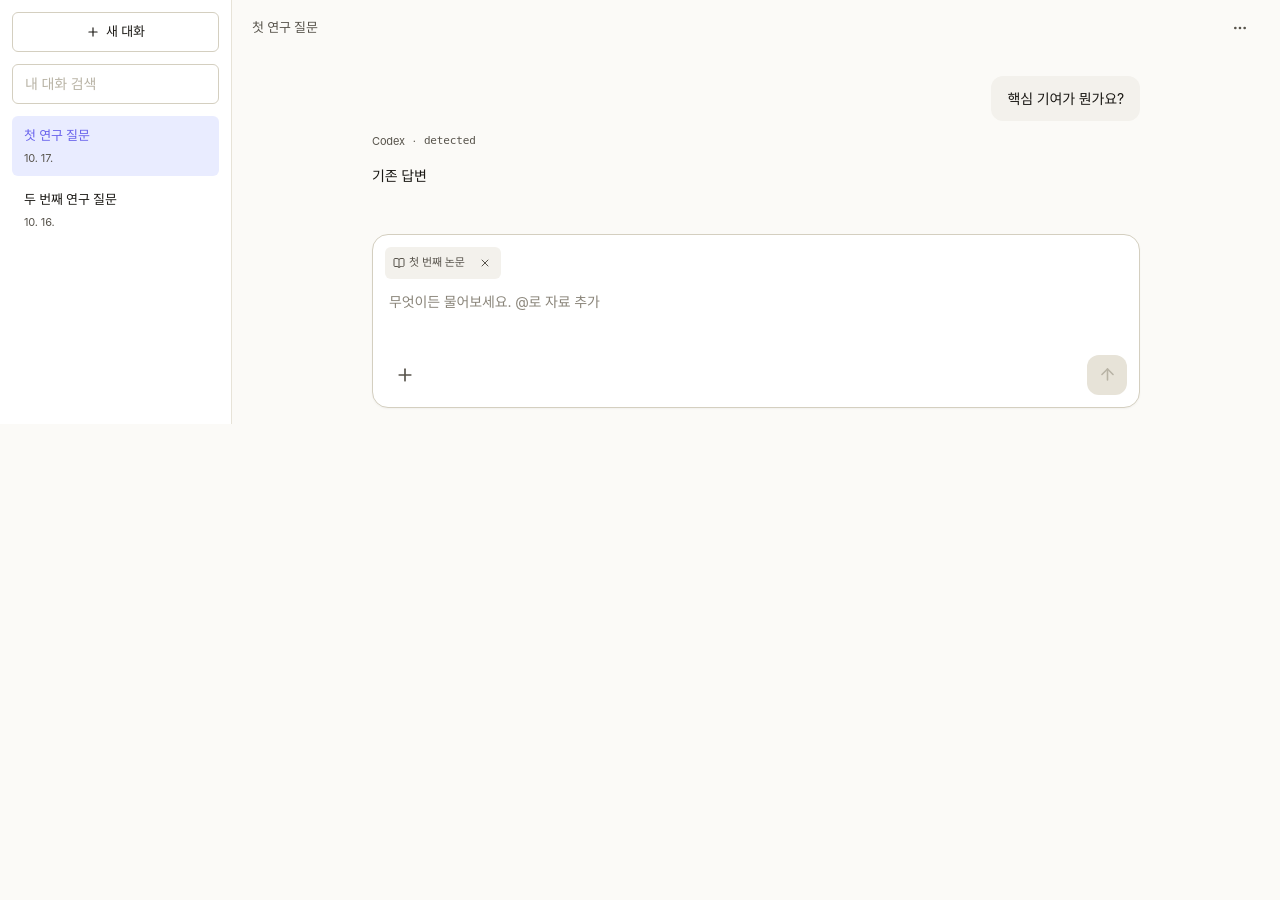
Test: 대화 삭제 › 지금 열린 대화를 지우면 새 대화 화면으로 돌아간다
Click the button named "현재 대화 더보기" at x=1240, y=28, box [1220, 8, 1260, 48]
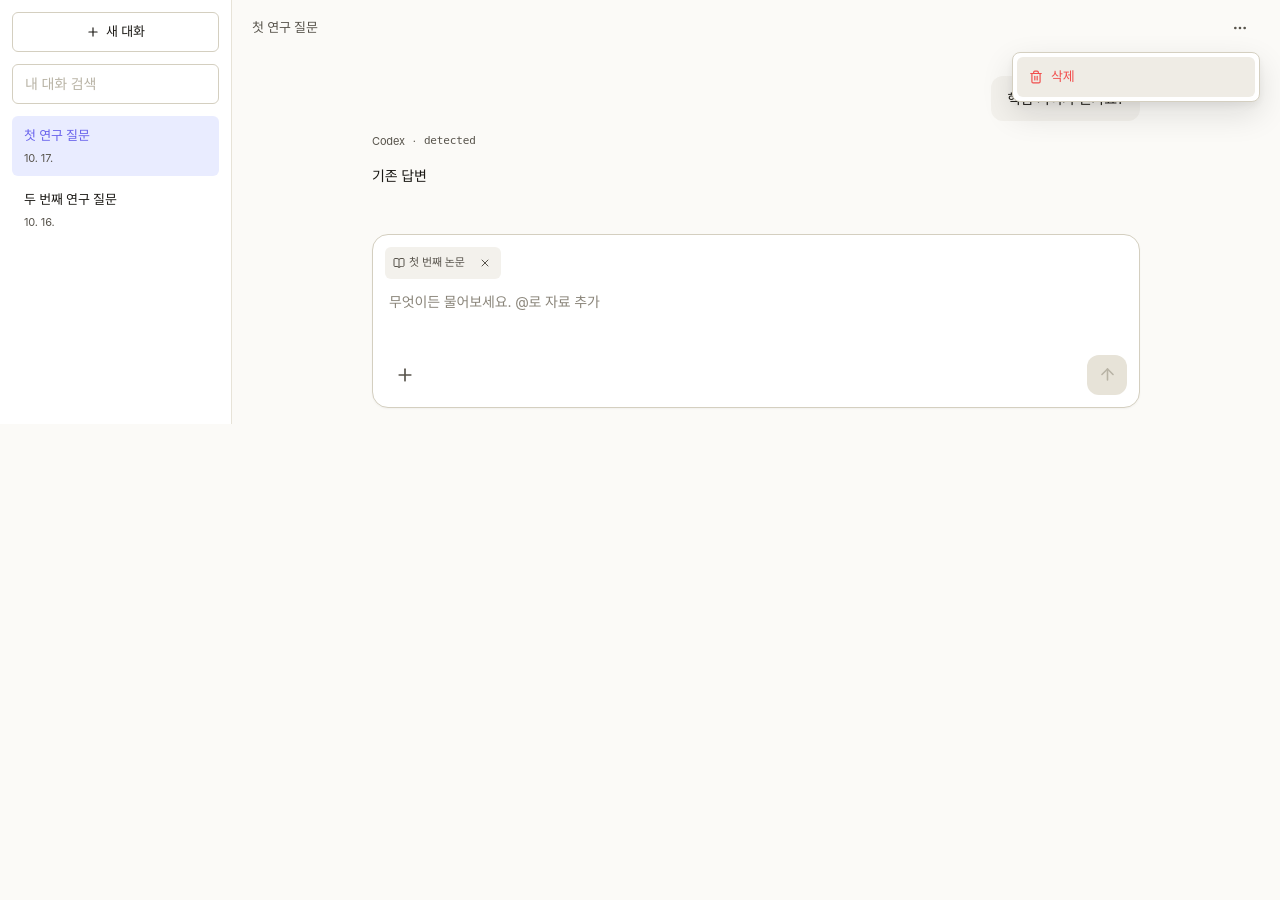
Click the menu item "삭제" at x=1136, y=77, box [1017, 57, 1255, 97]
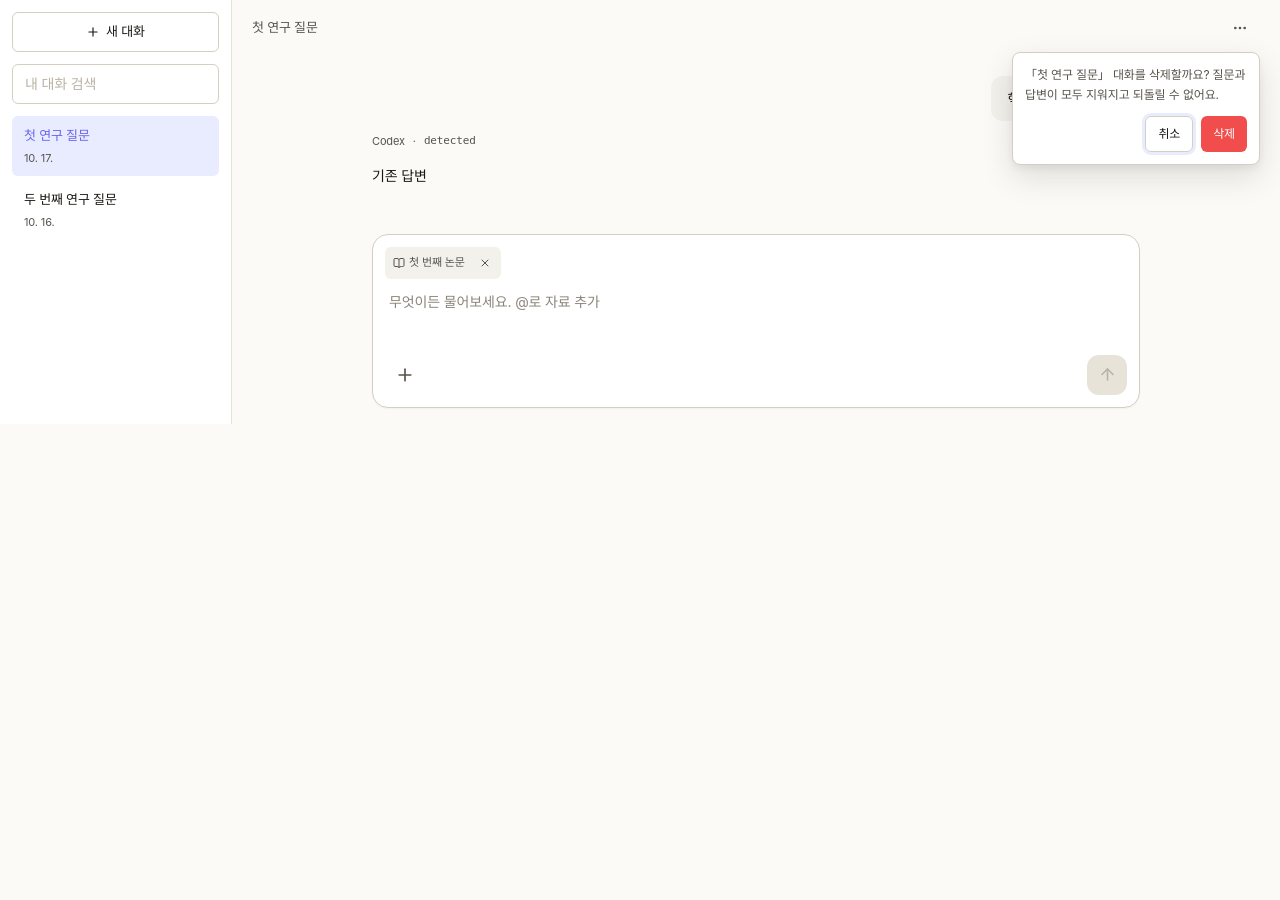
Click the button "삭제" at x=1224, y=134, box [1201, 116, 1247, 152]
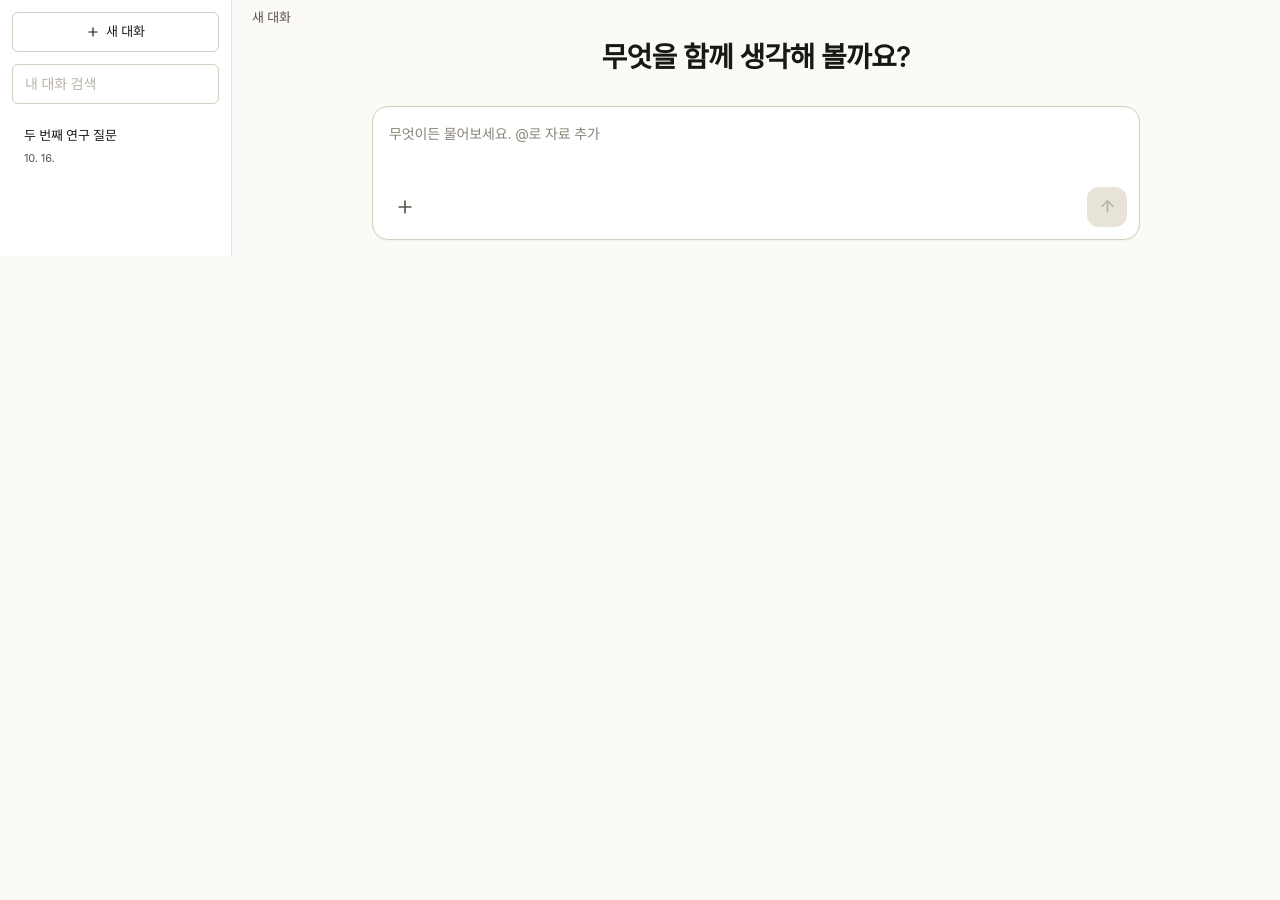
Check: the text "두 번째 연구 질문" is shown, box [24, 126, 117, 146]
Check: the text "기존 답변" is gone
Check: the button "첫 연구 질문" is gone
